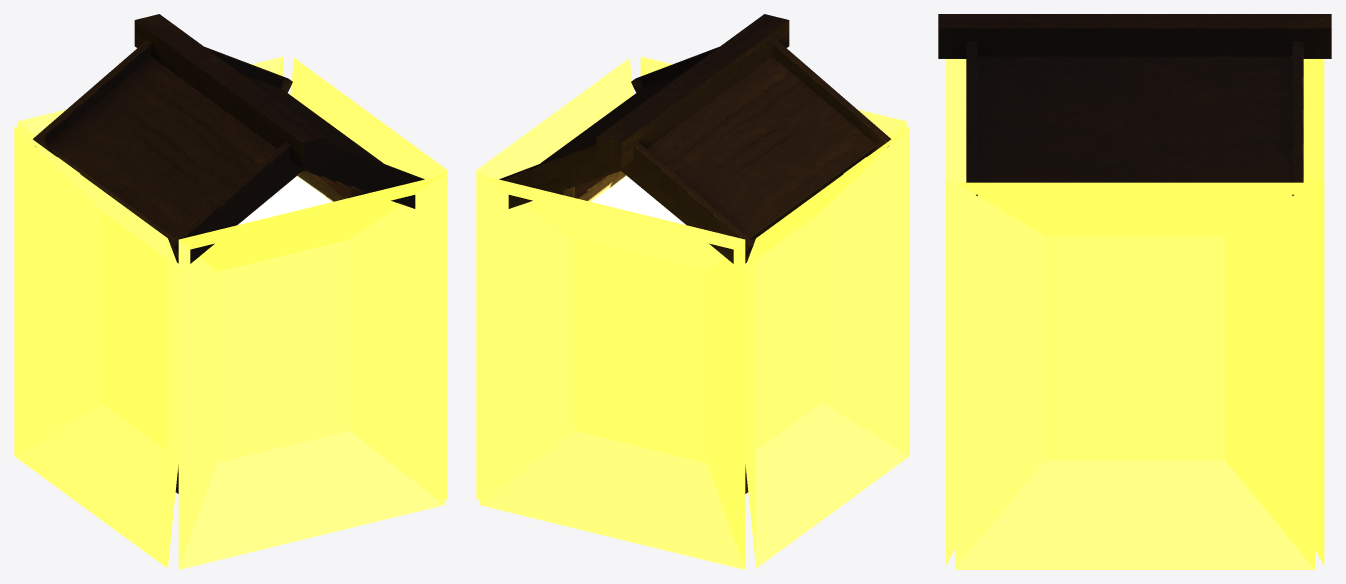
File: hovel_lighter.gltf
The picture shows the model from 3 angles, left to right: view 1: azimuth 30°, elevation 25°; view 2: azimuth 150°, elevation 25°; view 3: azimuth 270°, elevation 25°; orthographic projection. The views are drawn at different scales.
Visible parts, largest first — view 1: rayon.lighter, Lighter.Top, Lighter.Body; view 2: rayon.lighter, Lighter.Top, Lighter.Body; view 3: rayon.lighter, Lighter.Top.
Boxes of the visible parts, x1,y1,x2,y2 form: rayon.lighter: (14,56,447,569); Lighter.Top: (33,14,424,263); Lighter.Body: (80,171,367,493); rayon.lighter: (476,56,909,569); Lighter.Top: (499,14,890,263); Lighter.Body: (556,171,843,493); rayon.lighter: (945,59,1324,569); Lighter.Top: (938,14,1331,195).
Bounding box in the file's own units: 0.3366 × 0.46 × 0.35.
Materials: 2 (2 with a texture image).
